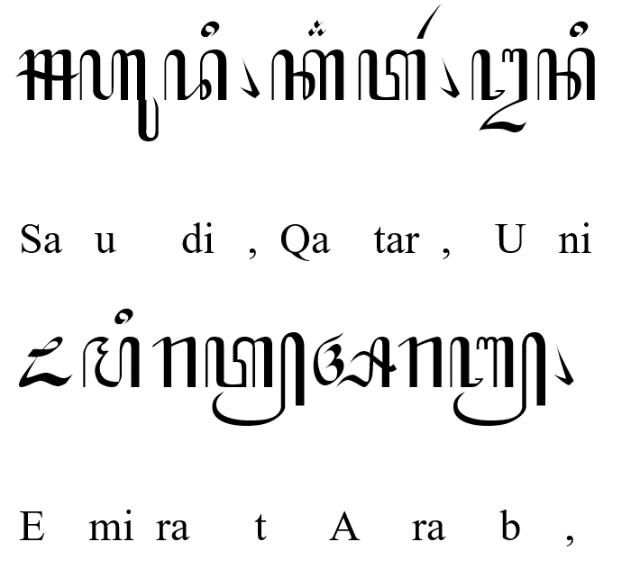-b: (448, 331, 546, 427)
-t: (204, 330, 306, 428)
A: (312, 332, 396, 390)
E: (18, 336, 72, 388)
S: (17, 48, 79, 100)
U: (470, 46, 528, 134)
_r1: (415, 3, 443, 40)
alt: (307, 18, 327, 38)
d: (164, 49, 228, 101)
hu: (80, 48, 160, 142)
i: (115, 307, 134, 327), (200, 20, 220, 38), (569, 20, 589, 38)
k: (270, 50, 346, 102)
kom: (438, 56, 460, 100), (552, 344, 574, 386), (238, 56, 260, 97)
m: (82, 335, 142, 389)
n: (534, 47, 596, 102)
r: (398, 335, 444, 388), (152, 335, 196, 388)
t: (358, 48, 427, 102)
